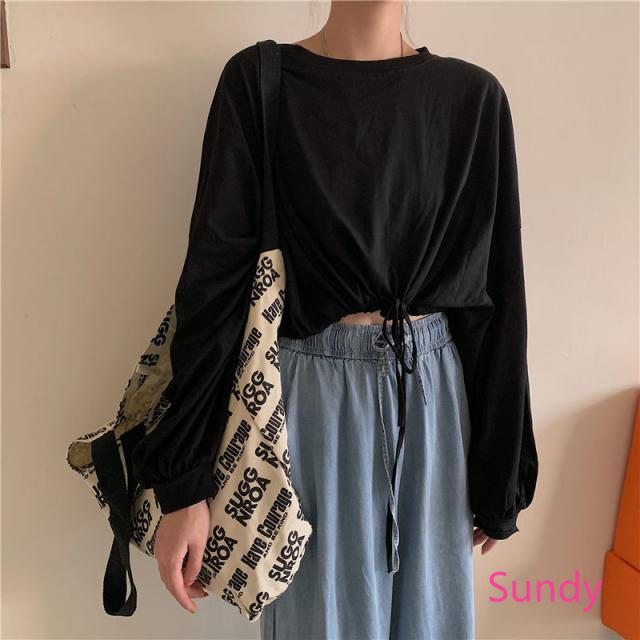Shirt: (148, 36, 542, 550)
